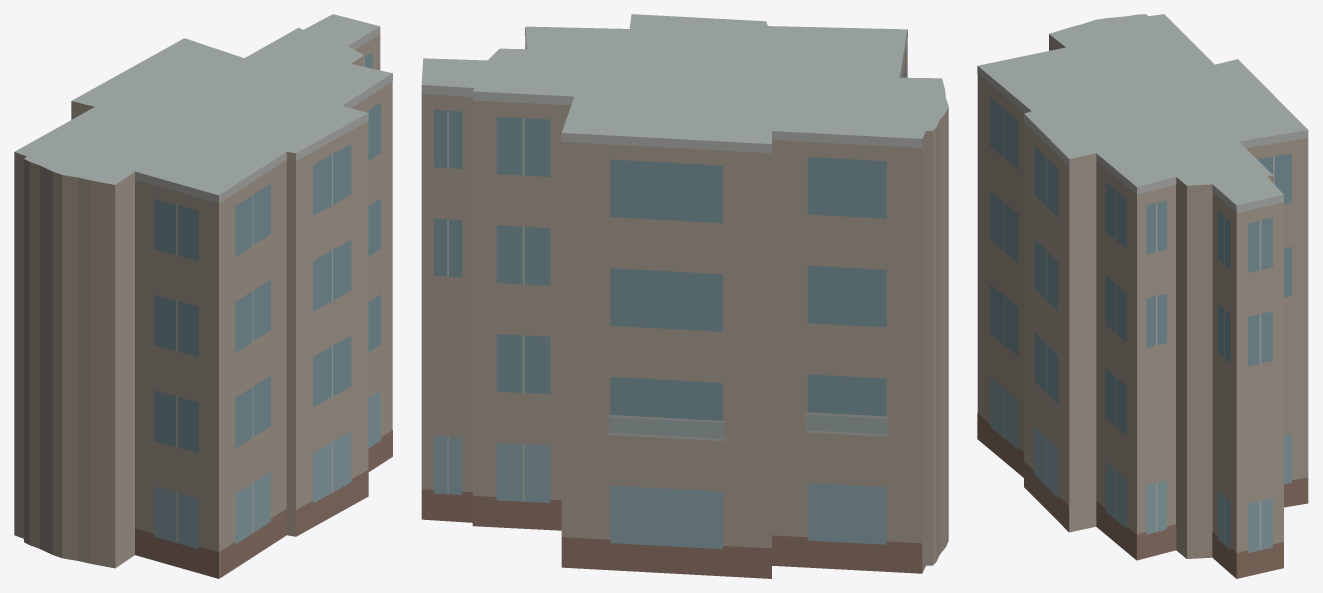
File: survey-upis-32683814.glb
3 renders of one model, left to right at view 1: azimuth 30°, elevation 25°; view 2: azimuth 150°, elevation 25°; view 3: azimuth 270°, elevation 25°, orthographic. The views are drawn at different scales.
Visible parts, largest first — view 1: survey-upis-32683814.tmp; view 2: survey-upis-32683814.tmp; view 3: survey-upis-32683814.tmp.
Part boxes in pixels (<box>): survey-upis-32683814.tmp: <box>14,14,392,578</box>; survey-upis-32683814.tmp: <box>421,14,948,578</box>; survey-upis-32683814.tmp: <box>977,14,1308,578</box>.
Bounding box in the file's own units: 12.88 × 11.7 × 9.41.
